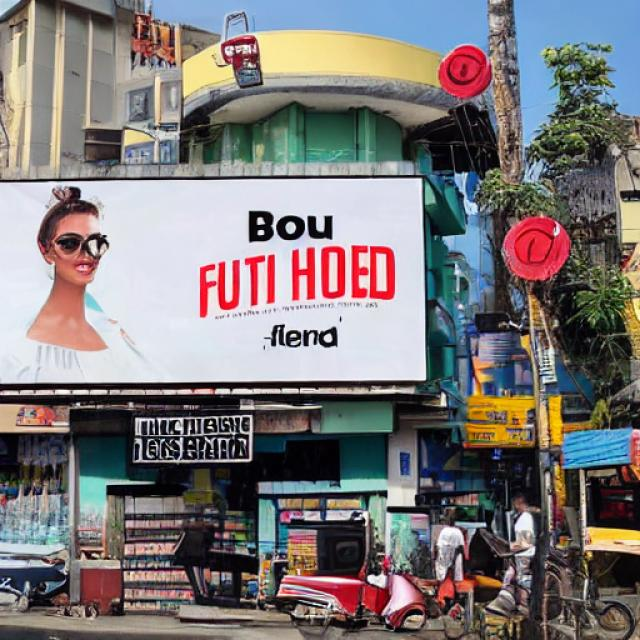Billboard: (0, 176, 431, 394)
